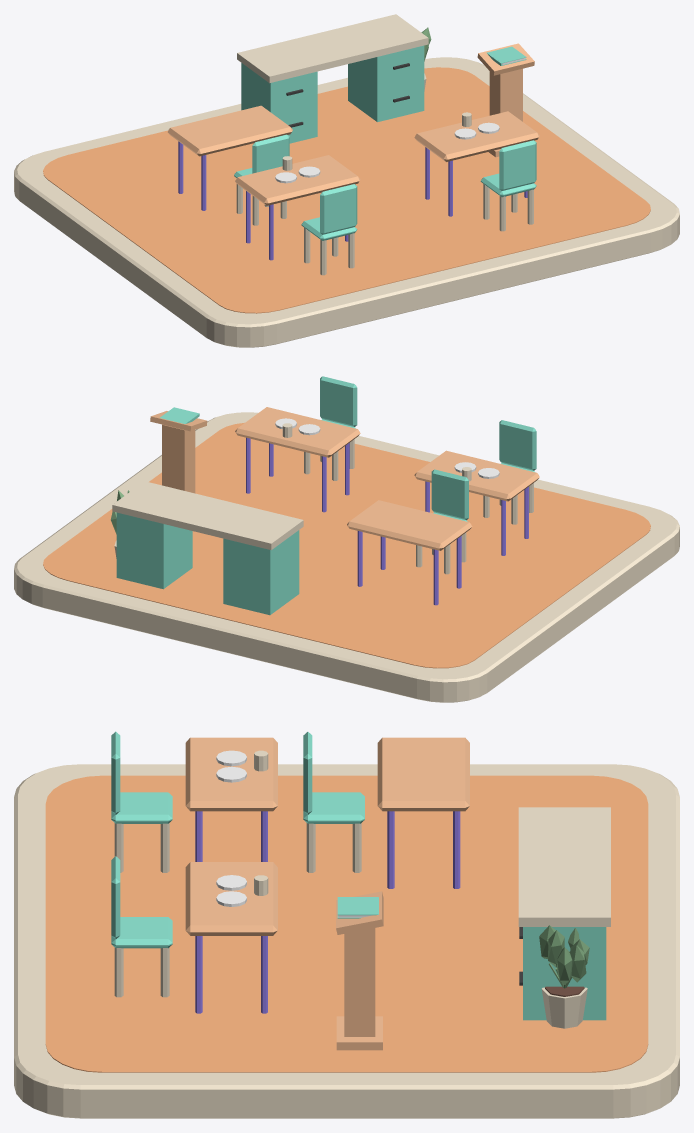
The model's file is room.fbx.
3 views of the same model, one above another, from view 1: azimuth 30°, elevation 25°; view 2: azimuth 150°, elevation 25°; view 3: azimuth 270°, elevation 25° (orthographic). The views are drawn at different scales.
Visible parts, largest first — view 1: COM-02 Floor Surface, COM-01 Rounded Base Direct, Worktop, Storage module.001, Storage module, Rounded table top.002, Rounded table top, Rounded table top.001, Backrest, Backrest.001, Body, Backrest.002 (+3 smaller); view 2: COM-02 Floor Surface, COM-01 Rounded Base Direct, Worktop, Storage module, Storage module.001, Rounded table top.002, Rounded table top.001, Rounded table top, Body, Backrest, Backrest.001, Backrest.002; view 3: COM-02 Floor Surface, COM-01 Rounded Base Direct, Worktop, Rounded table top.002, Rounded table top, Rounded table top.001, Storage module.001, Pot, Body, Seat.002, Seat, Seat.001 (+9 smaller).
Part boxes in pixels (left/top/right/bottom): COM-02 Floor Surface: left=43, top=67, right=650, bottom=313; COM-01 Rounded Base Direct: left=14, top=57, right=679, bottom=347; Worktop: left=237, top=14, right=428, bottom=83; Storage module.001: left=348, top=45, right=424, bottom=122; Storage module: left=241, top=63, right=317, bottom=143; Rounded table top.002: left=167, top=105, right=292, bottom=156; Rounded table top: left=235, top=155, right=360, bottom=205; Rounded table top.001: left=414, top=111, right=539, bottom=161; Backrest: left=320, top=184, right=357, bottom=234; Backrest.001: left=499, top=140, right=536, bottom=190; Body: left=489, top=68, right=522, bottom=121; Backrest.002: left=252, top=134, right=289, bottom=173; COM-02 Floor Surface: left=43, top=422, right=650, bottom=668; COM-01 Rounded Base Direct: left=14, top=412, right=679, bottom=702; Worktop: left=112, top=481, right=303, bottom=550; Storage module: left=223, top=530, right=299, bottom=615; Storage module.001: left=116, top=512, right=192, bottom=589; Rounded table top.002: left=347, top=500, right=472, bottom=550; Rounded table top.001: left=235, top=407, right=360, bottom=457; Rounded table top: left=414, top=450, right=539, bottom=501; Body: left=162, top=424, right=195, bottom=493; Backrest: left=499, top=420, right=536, bottom=470; Backrest.001: left=320, top=376, right=357, bottom=426; Backrest.002: left=431, top=469, right=468, bottom=520; COM-02 Floor Surface: left=45, top=775, right=648, bottom=1072; COM-01 Rounded Base Direct: left=14, top=764, right=679, bottom=1118; Worktop: left=518, top=807, right=610, bottom=926; Rounded table top.002: left=377, top=737, right=469, bottom=811; Rounded table top: left=185, top=737, right=277, bottom=811; Rounded table top.001: left=185, top=862, right=277, bottom=935; Storage module.001: left=523, top=927, right=606, bottom=1020; Pot: left=539, top=925, right=589, bottom=1028; Body: left=344, top=928, right=375, bottom=1036; Seat.002: left=303, top=792, right=364, bottom=823; Seat: left=111, top=792, right=172, bottom=823; Seat.001: left=111, top=917, right=172, bottom=948.
Bounding box in the file's own units: 600 × 143 × 520.
